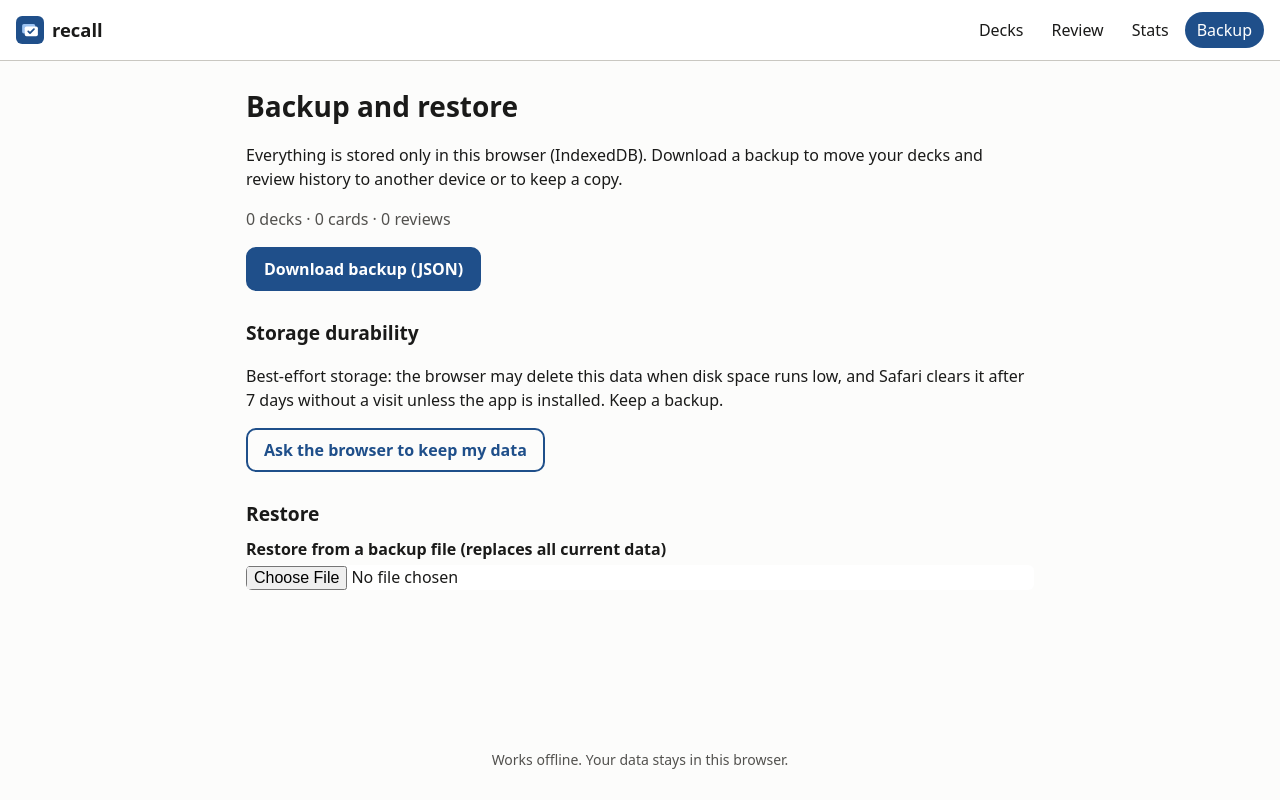
storage durability › asks the browser for persistent storage and shows the answer
expect the heading "Backup and restore" is shown: met, box [246,87,518,125]
expect the text with test id "persistence-status" shows "Best-effort storage": met, box [246,365,1024,411]
What coordinates should you click on to do the following:
click the button "Ask the browser to keep my data"
I would click on:
 (395, 450)
Its box is [246,428,545,472].
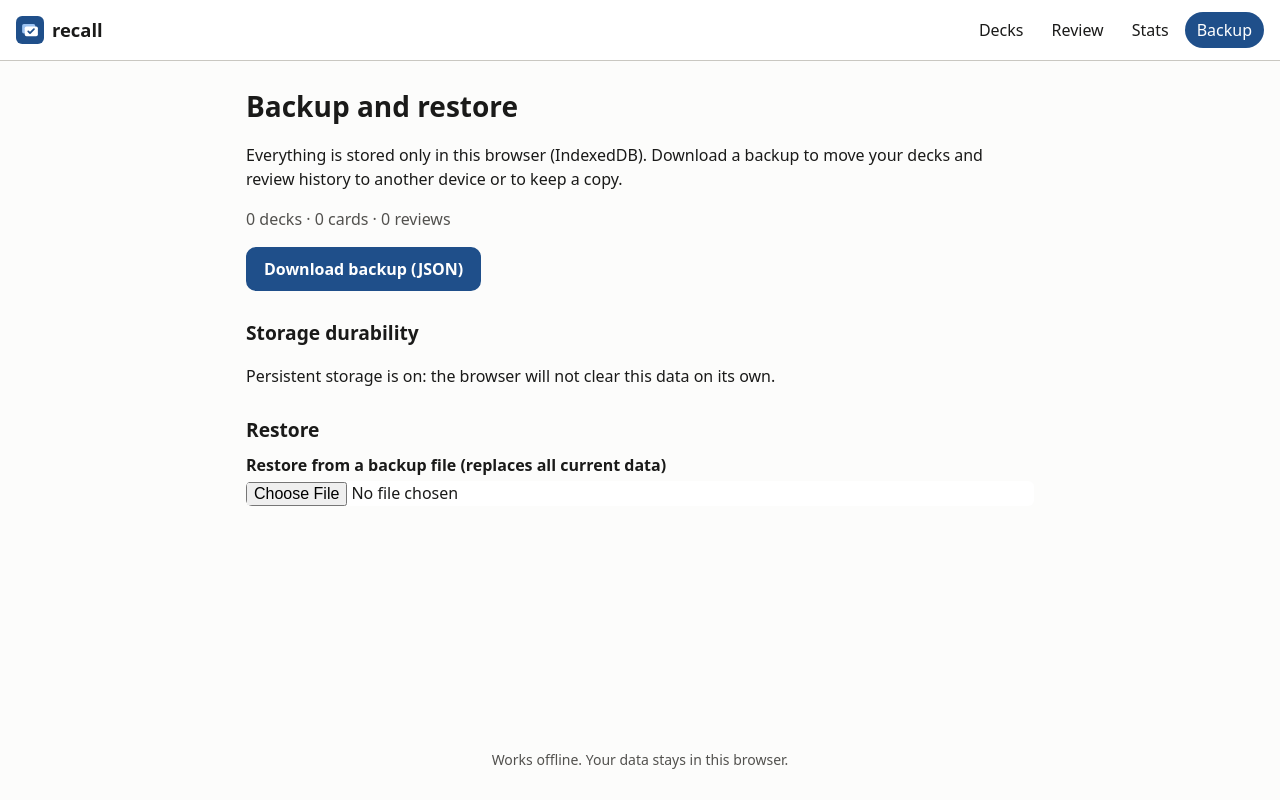
expect the text with test id "persistence-status" shows "Persistent storage is on": met, box [246,365,775,387]
